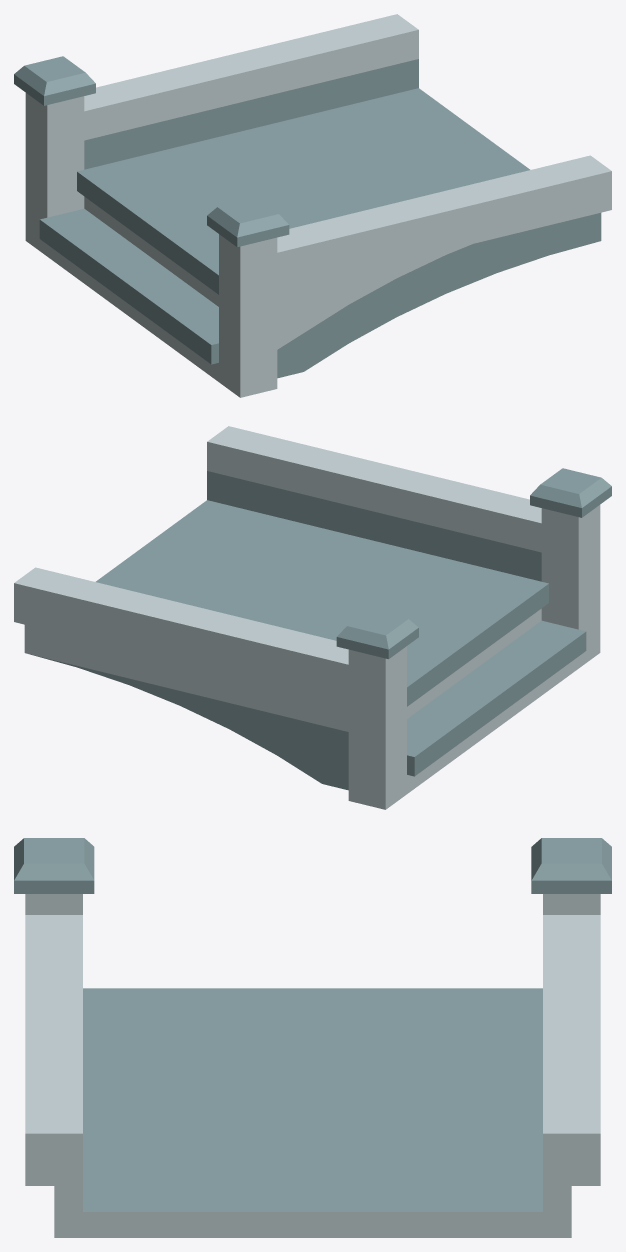
Rendered from bridge_side_stoneRound.glb.
3 renders of one model, top to bottom at view 1: azimuth 30°, elevation 25°; view 2: azimuth 150°, elevation 25°; view 3: azimuth 270°, elevation 25°, orthographic. The views are drawn at different scales.
Parts seen in each view (by area): view 1: bridge_side_stoneRound; view 2: bridge_side_stoneRound; view 3: bridge_side_stoneRound.
Part boxes in pixels (bbox=[...]): bridge_side_stoneRound: bbox=[14, 14, 611, 397]; bridge_side_stoneRound: bbox=[14, 426, 611, 809]; bridge_side_stoneRound: bbox=[14, 838, 611, 1237].
Size of the model in its own units: 1.02 by 0.45 by 1.04.
